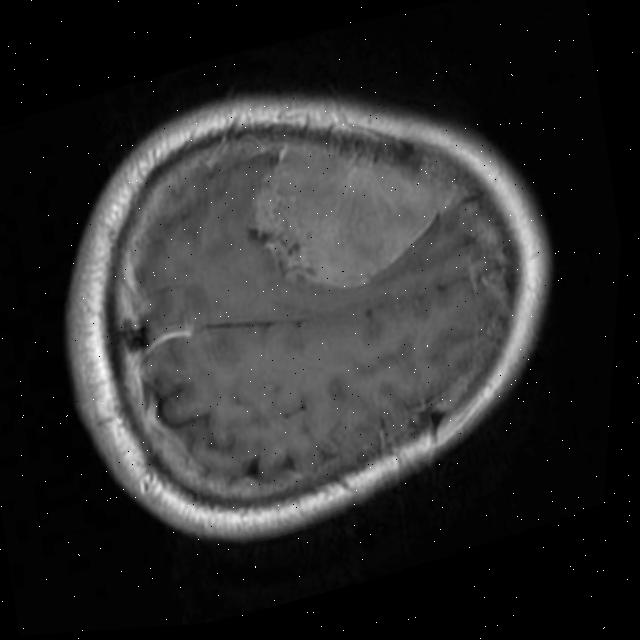Meningioma: (226, 92, 478, 315)
